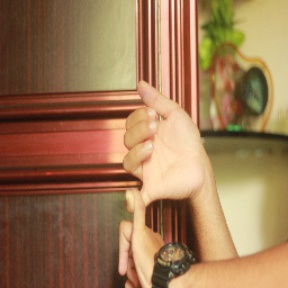S: (106, 77, 208, 288)
